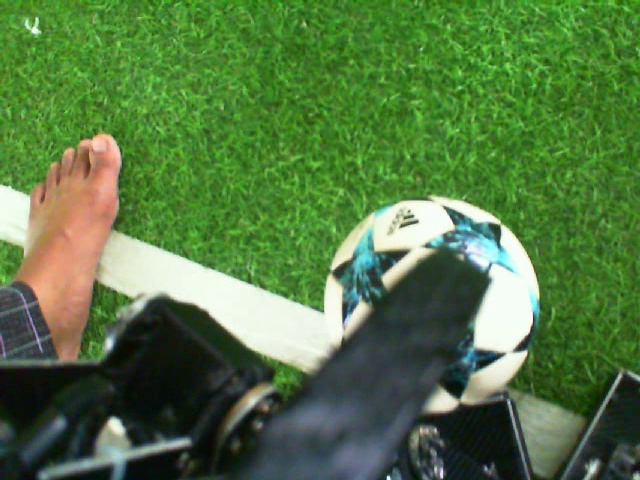ball: (323, 192, 543, 414)
